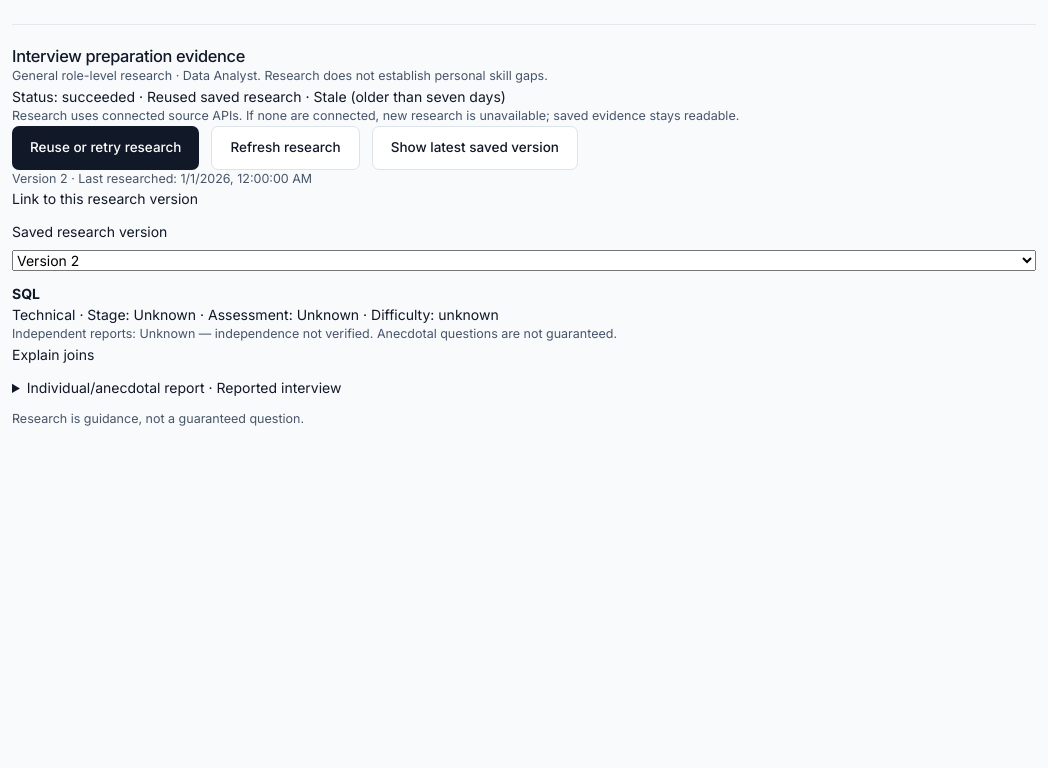
Test: exposes sourced topics, uncertainty and historical evidence without starting research
Expected: the heading "SQL" is shown, [12, 285, 40, 302]
Expected: the message shows "Reused saved research", [135, 88, 302, 105]
Click the heading "Individual/anecdotal report · Reported interview" at (184, 388), box [27, 379, 341, 396]
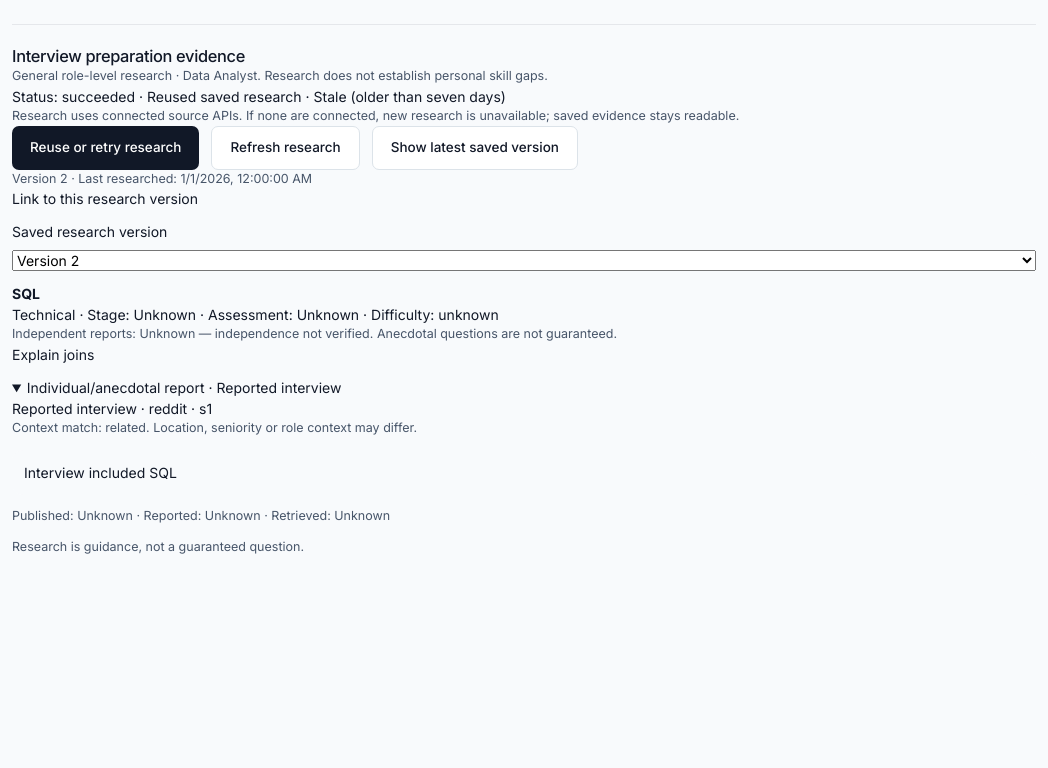
Now the text "Location, seniority or role context may differ" is shown, box [153, 420, 417, 435]
